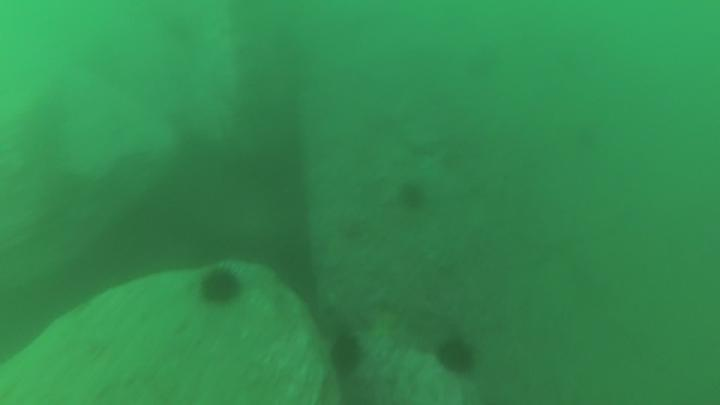echinus: (438, 337, 479, 374), (200, 268, 239, 301), (329, 338, 361, 373), (402, 184, 424, 205)
